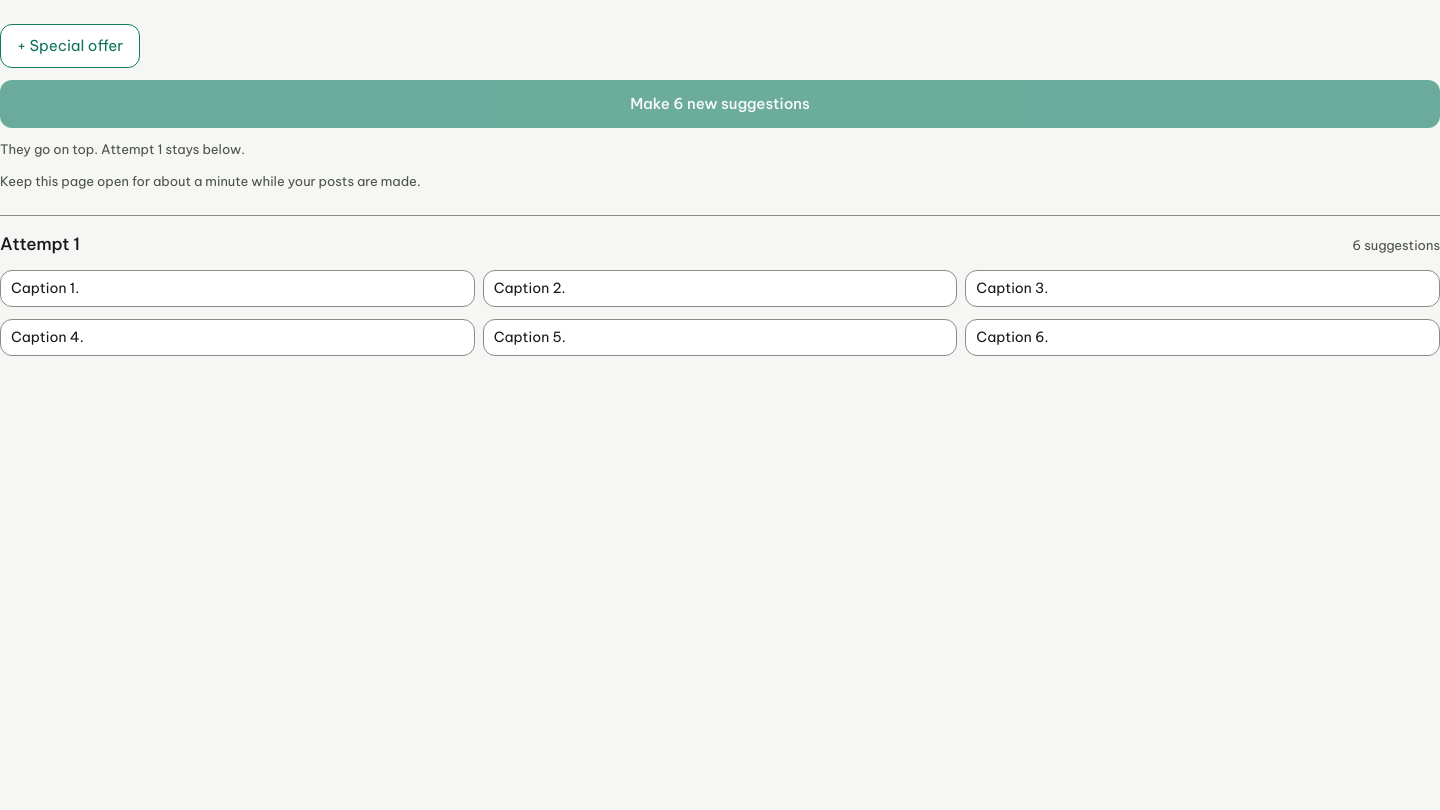
Scenario: captions follow the business by themselves › rewrite this one too sends one post
Click the button "Caption 1.".
click(237, 288)  # box [0, 270, 475, 307]
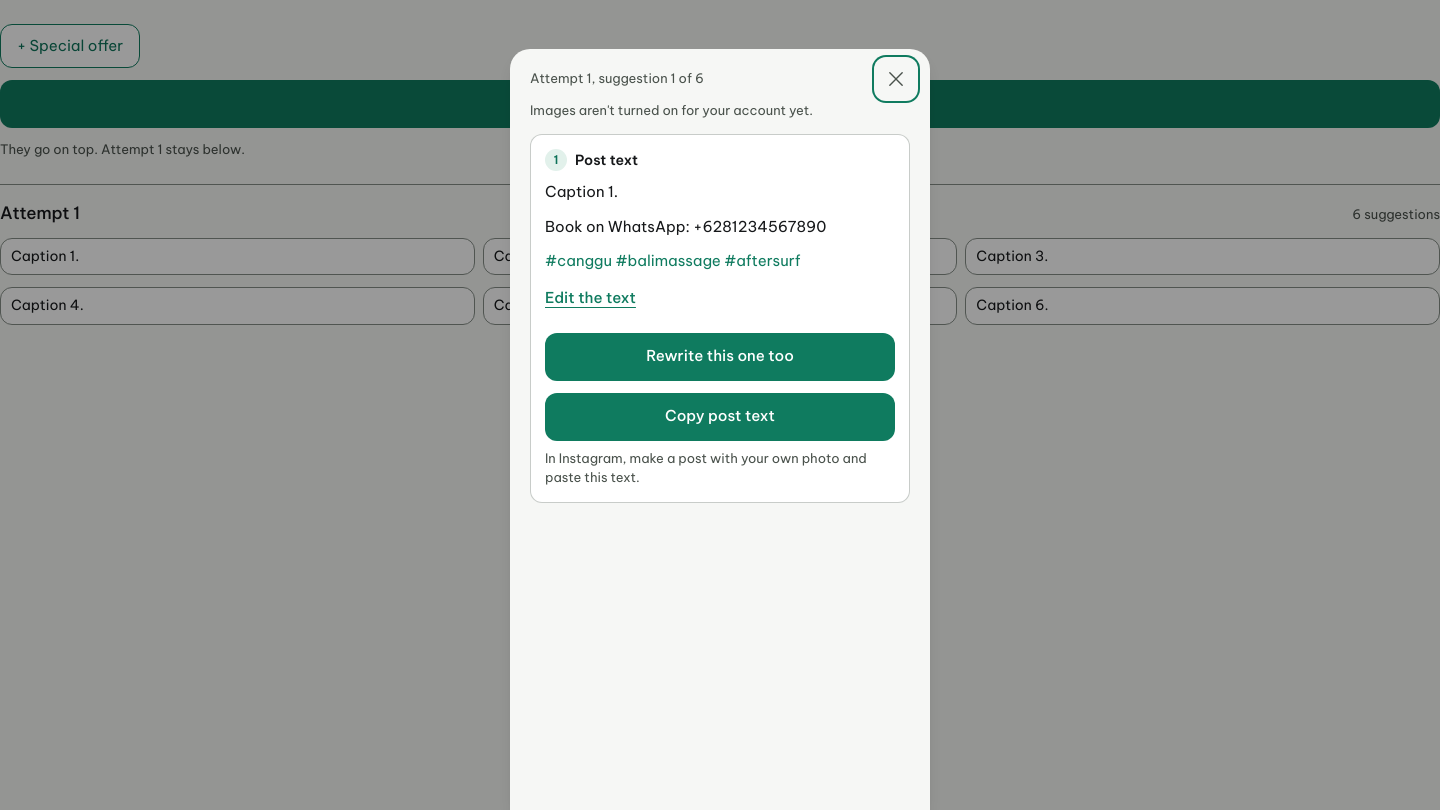
Check: the button "Rewrite this one too" is enabled
Click the button "Rewrite this one too".
click(720, 357)  # box [545, 333, 895, 381]
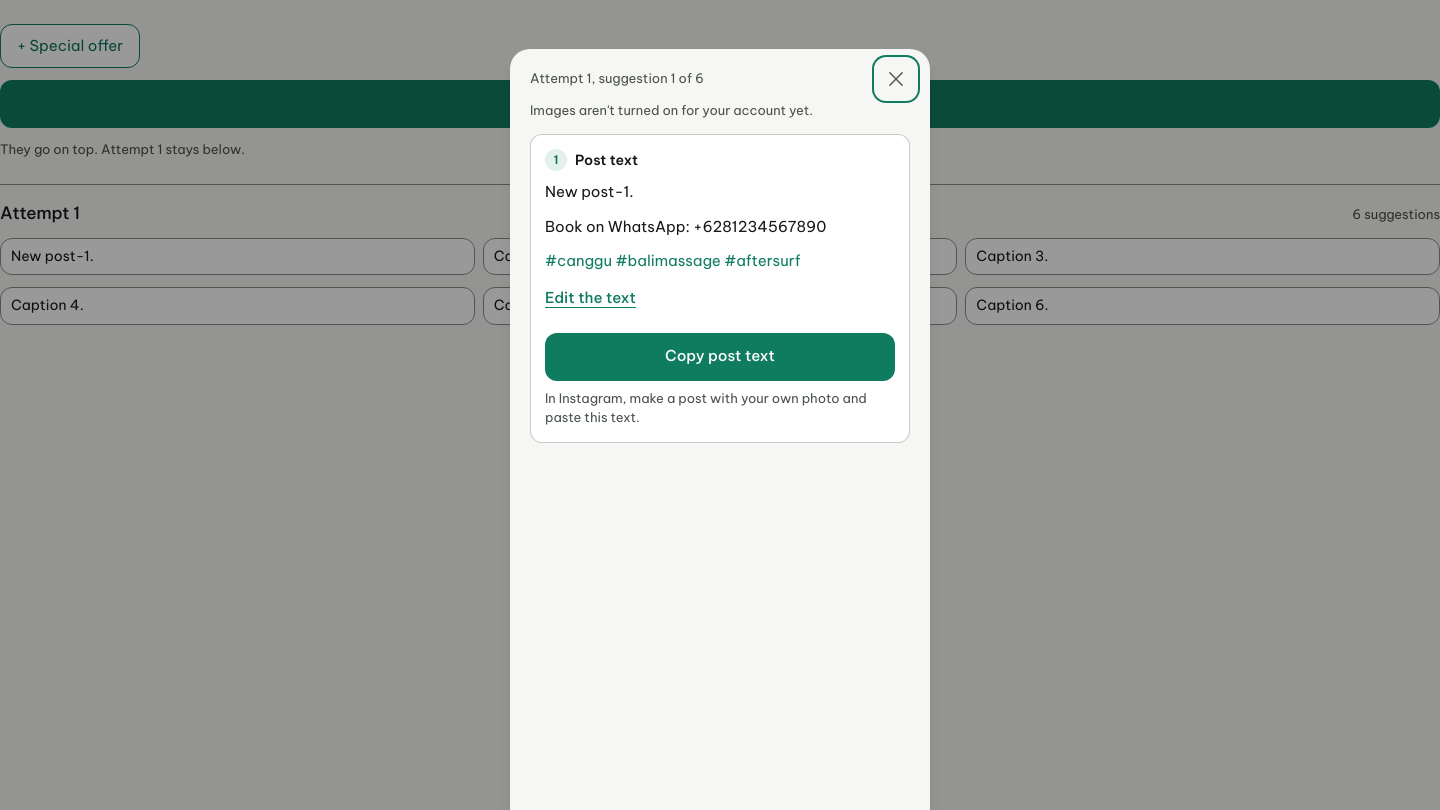
Check: the text "New post-1." is shown, box [545, 182, 634, 201]
Check: the button "Rewrite this one too" is gone
